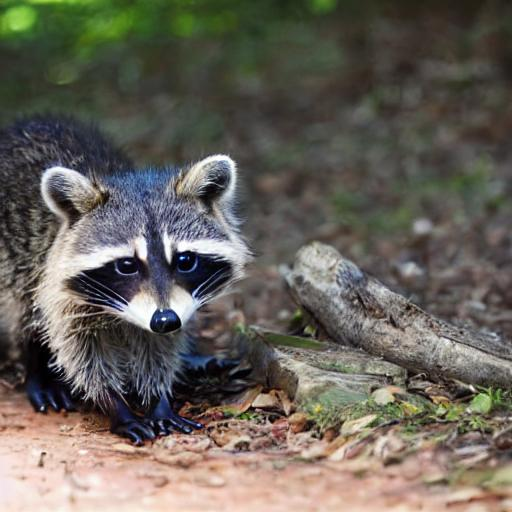raccoon: (0, 101, 262, 400)
